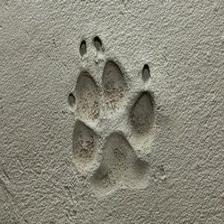dog: (64, 36, 168, 205)
